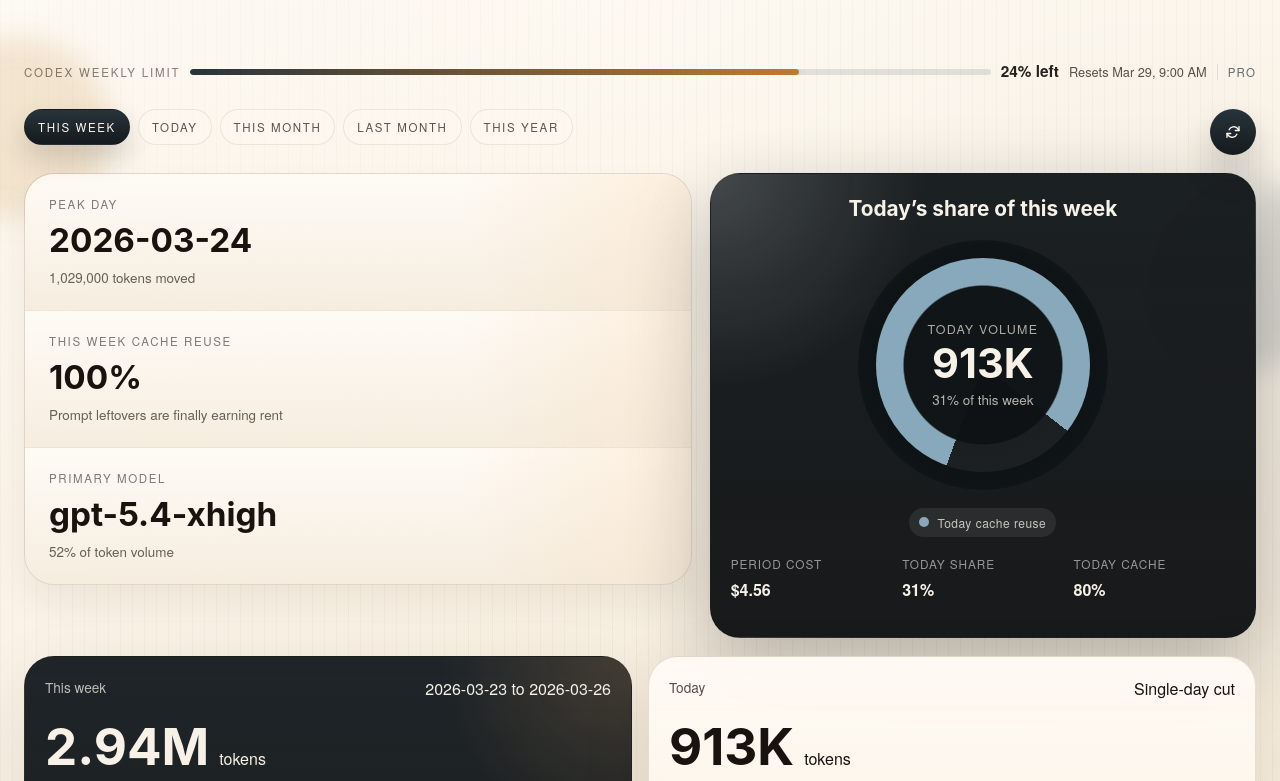
Scenario: App › aggregates the year rhythm into month bars
Check: the button "This week" is shown, box [24,109,130,145]
Click the button "This year" at (521, 127), box [470,109,573,145]
(page scrolled)
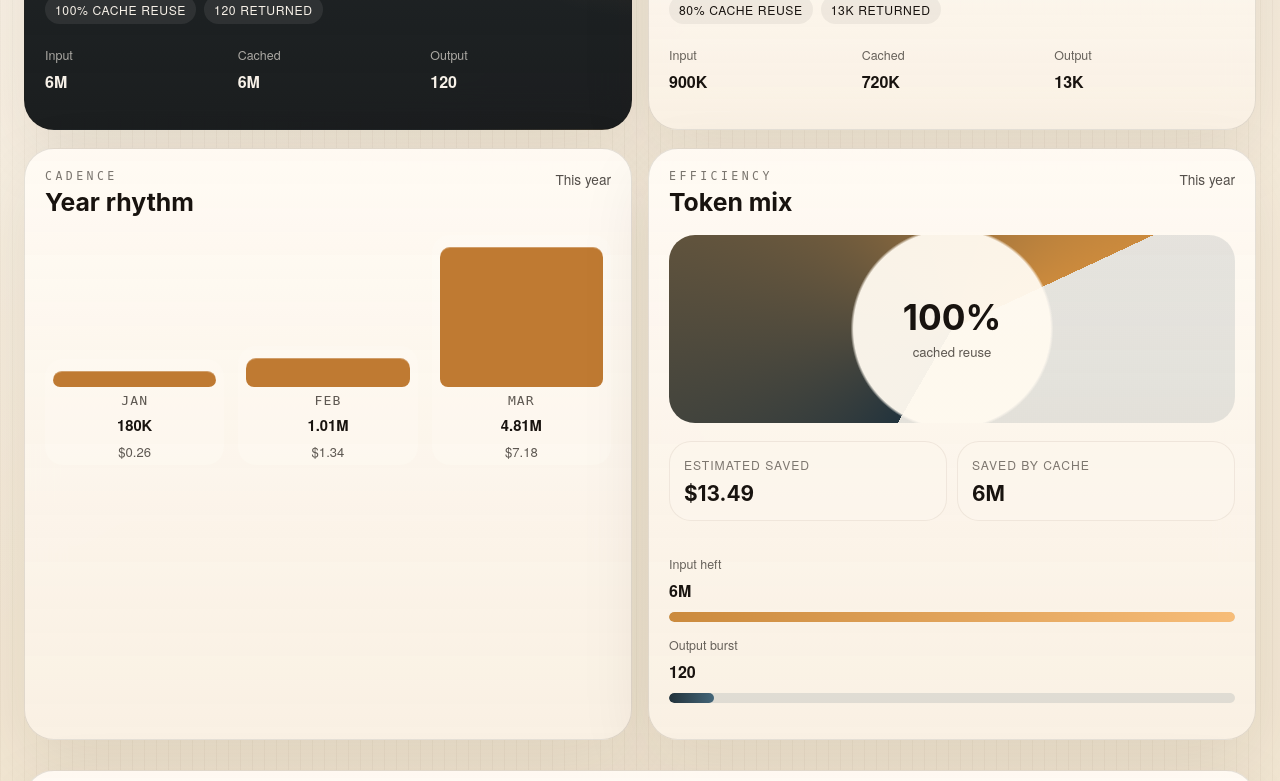
Check: the heading "Year rhythm" is shown, box [45,187,194,217]
Check: the text "Jan" is shown, box [121,393,148,408]
Check: the text "Feb" is shown, box [315,393,341,408]
